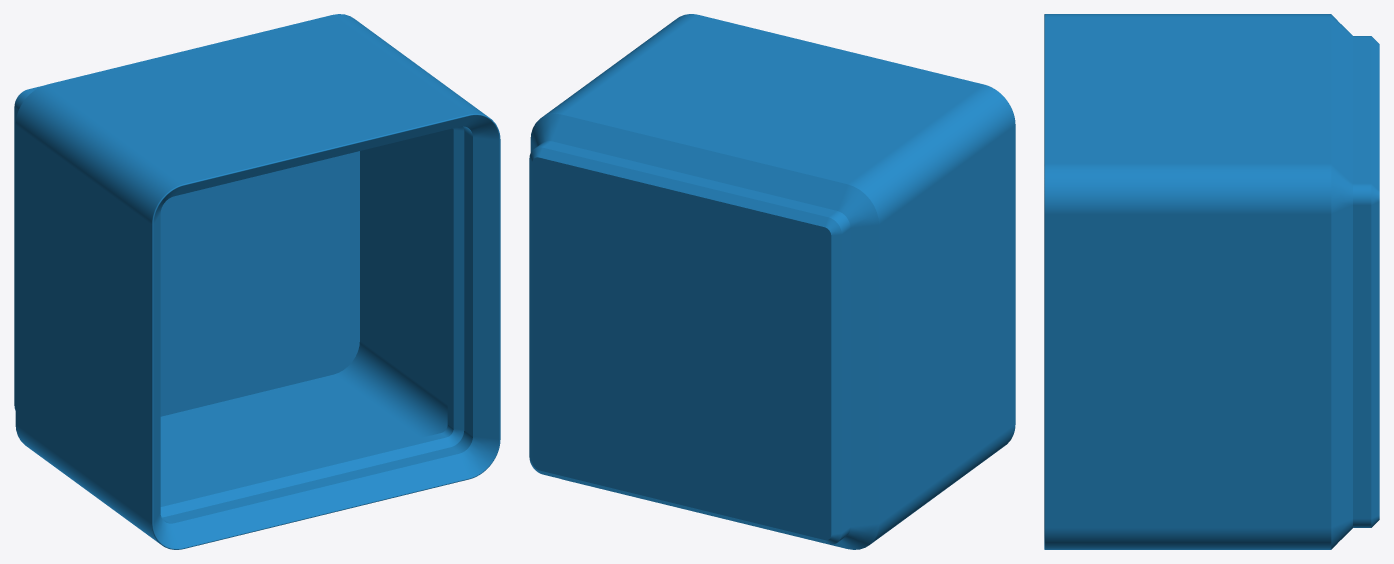
3 renders of one model, left to right at view 1: azimuth 30°, elevation 25°; view 2: azimuth 150°, elevation 25°; view 3: azimuth 270°, elevation 25°, orthographic. The views are drawn at different scales.
Visible parts, largest first — view 1: model; view 2: model; view 3: model.
Part boxes in pixels (x1,y1,x2,y2): model: [14, 14, 500, 549]; model: [529, 14, 1015, 549]; model: [1044, 14, 1379, 549].
Bounding box in the file's own units: 0.0414 × 0.0414 × 0.0329.
